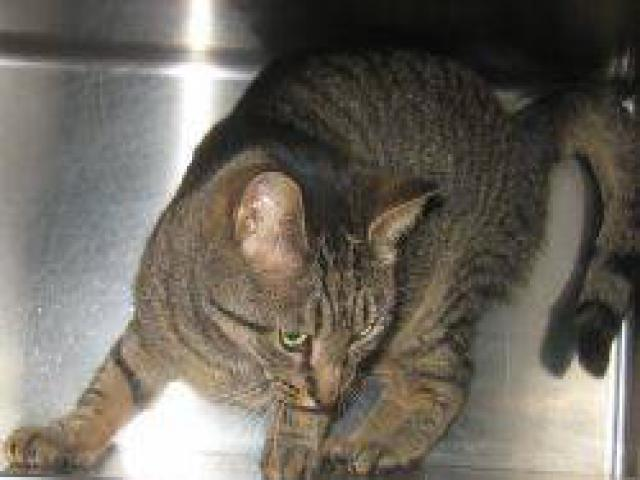cat: (12, 27, 605, 476)
